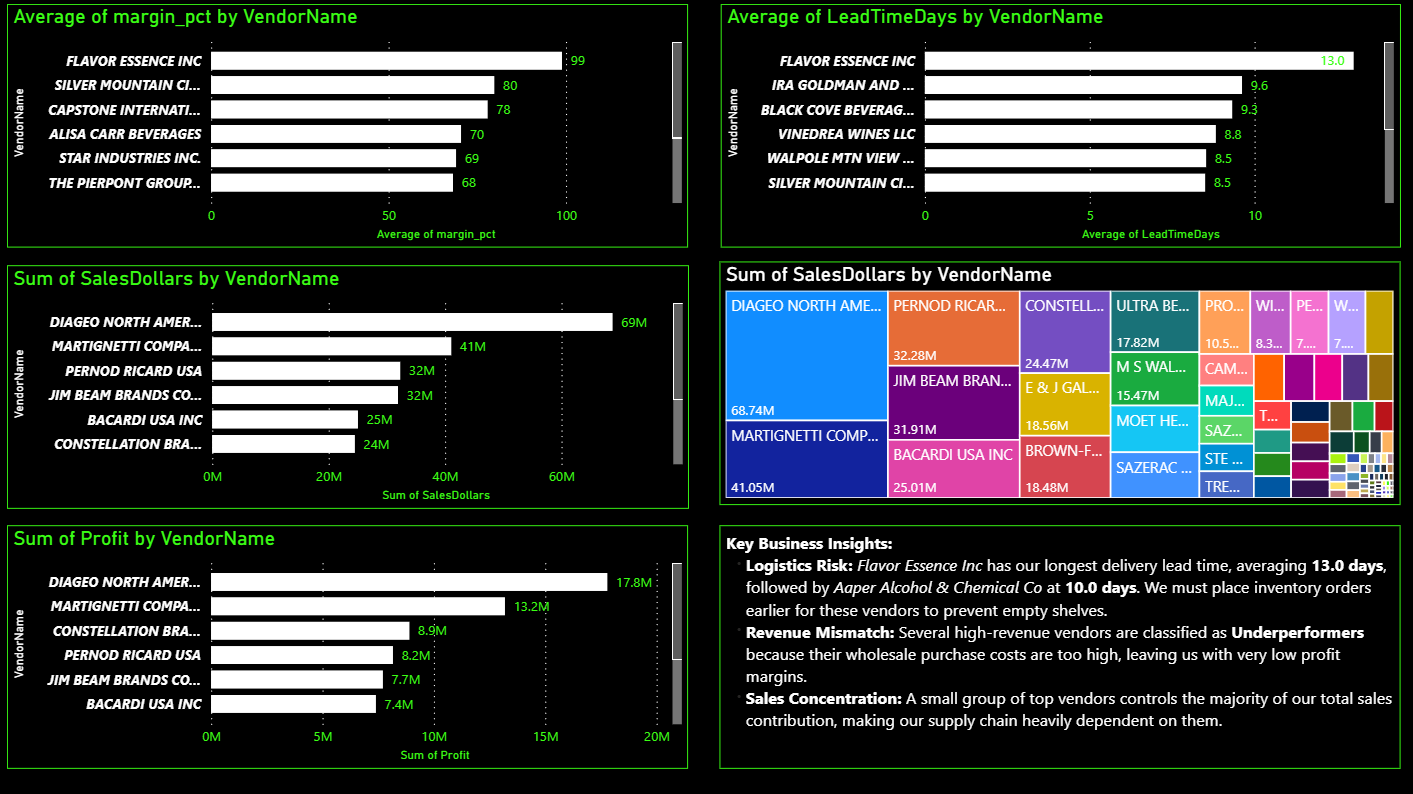

The dashboard page shown, as its layout file describes it:
{"tool":"powerbi","page":{"name":"Vendor Performance Analysis","canvas":[1280,720],"ordinal":1},"visuals":[{"type":"clusteredBarChart","fields":{"Category":["vendor_summary.VendorName"],"Y":["Avg(vendor_summary.margin_pct)"]},"box":[8.9,4.4,615.6,220],"z":0},{"type":"clusteredBarChart","fields":{"Category":["vendor_summary.VendorName"],"Y":["Sum(vendor_summary.SalesDollars)"]},"box":[8.8,240,616.2,220],"z":1000},{"type":"clusteredBarChart","fields":{"Category":["vendor_summary.VendorName"],"Y":["Sum(vendor_summary.Profit)"]},"box":[8.9,475.6,615.6,220],"z":2000},{"type":"clusteredBarChart","fields":{"Category":["vendor_summary.VendorName"],"Y":["Avg(vendor_summary.LeadTimeDays)"]},"box":[654.3,4.3,614.3,220],"z":3000},{"type":"treemap","fields":{"Group":["vendor_summary.VendorName"],"Values":["Sum(vendor_summary.SalesDollars)"]},"box":[652.5,237.5,615,220],"z":4000},{"type":"textbox","box":[652.5,475,615,220],"z":5000}]}

Visuals, with their boxes in screenshot pixels (x1, y1, x2, y2), scaled from the page's 1280x720 canvas onto the 1413x794 screenshot:
clusteredBarChart - vendor_summary.VendorName x Avg(vendor_summary.margin_pct): [x1=10, y1=5, x2=689, y2=247]
clusteredBarChart - vendor_summary.VendorName x Sum(vendor_summary.SalesDollars): [x1=10, y1=265, x2=690, y2=507]
clusteredBarChart - vendor_summary.VendorName x Sum(vendor_summary.Profit): [x1=10, y1=524, x2=689, y2=767]
clusteredBarChart - vendor_summary.VendorName x Avg(vendor_summary.LeadTimeDays): [x1=722, y1=5, x2=1400, y2=247]
treemap - vendor_summary.VendorName x Sum(vendor_summary.SalesDollars): [x1=720, y1=262, x2=1399, y2=505]
textbox: [x1=720, y1=524, x2=1399, y2=766]
